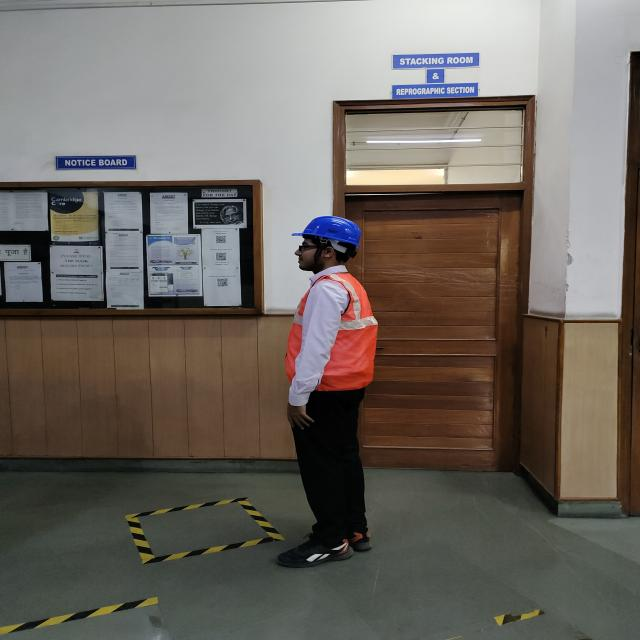safe: (286, 216, 378, 568)
